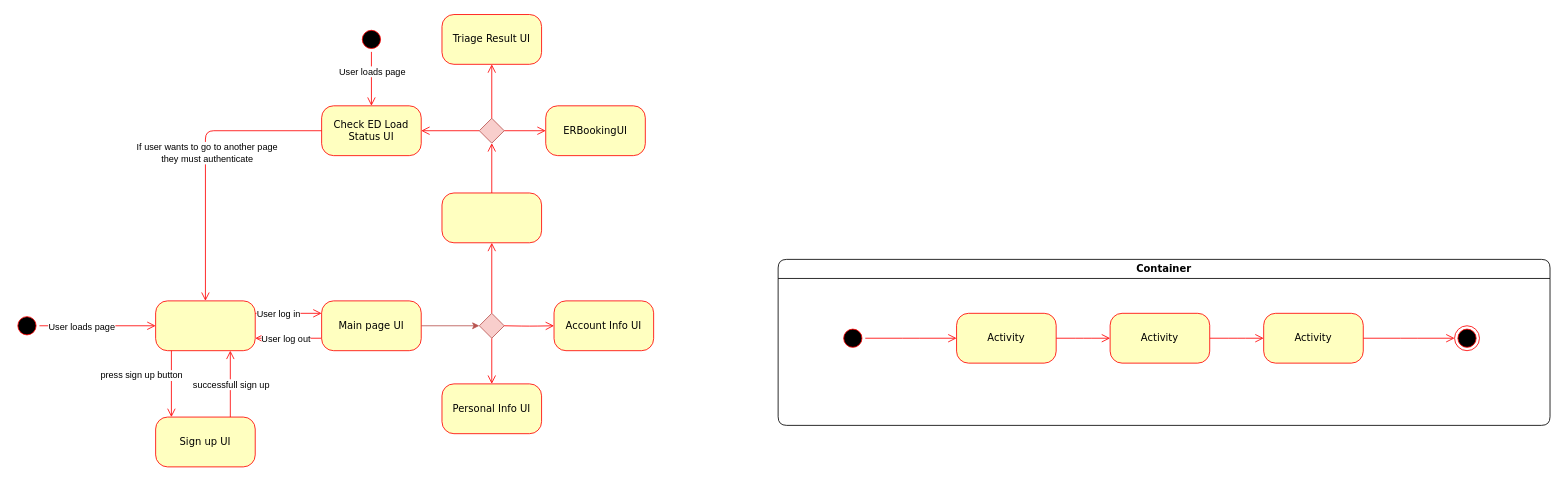
Image size: 1565x481. Some labels were removed from this diagram. The shapes that lost their labels are listed below. From the top down, each one's centre as x and y in pixels, then its label:
At (491,217): "Triage UI".
At (205,325): "Authentication UI".
